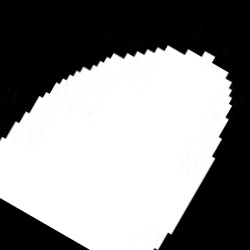spot: (2, 49, 232, 248)
